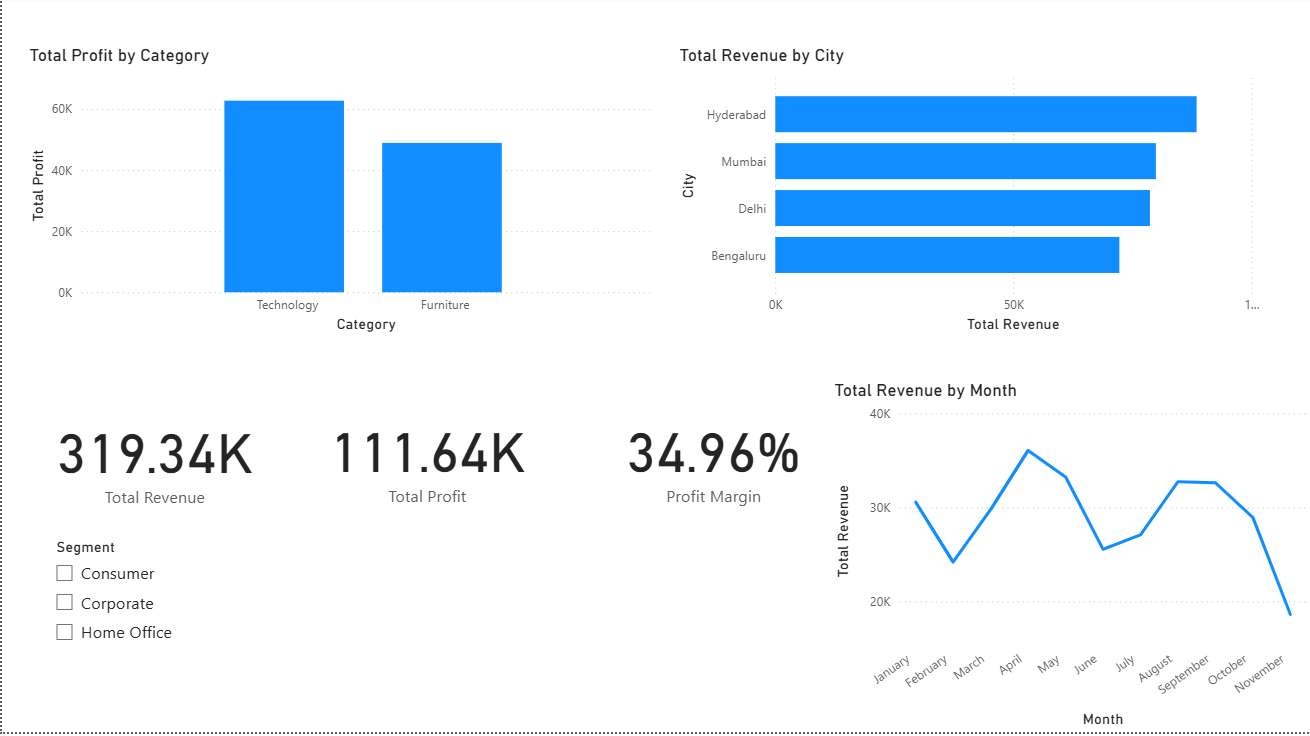

Layout of this report page (visuals, bound fields, positions):
{"tool":"powerbi","page":{"name":"Page 1","canvas":[1280,720],"ordinal":0},"visuals":[{"type":"clusteredColumnChart","fields":{"Category":["Products.Category"],"Y":["Orders.Total Profit"]},"box":[22,47.7,617.5,286.1],"z":0},{"type":"card","fields":{"Values":["Orders.Total Revenue"]},"box":[40.4,354.6,218.9,194.4],"z":1},{"type":"card","fields":{"Values":["Orders.Total Profit"]},"box":[276.4,375.4,280,150.4],"z":2},{"type":"card","fields":{"Values":["Orders.Profit Margin"]},"box":[556.4,375.4,280,150.4],"z":3},{"type":"clusteredBarChart","fields":{"Category":["Regions.City"],"Y":["Orders.Total Revenue"]},"box":[657.9,47.7,579.6,286.1],"z":4},{"type":"lineChart","fields":{"Category":["Orders.OrderDate.Variation.Date Hierarchy.Month"],"Y":["Orders.Total Revenue"]},"box":[809.5,375.4,470.8,344.8],"z":5},{"type":"slicer","fields":{"Values":["Customers.Segment"]},"box":[40.4,525.8,262.9,171.2],"z":6}]}

Visuals, with their boxes in screenshot pixels (x1, y1, x2, y2), scaled from the page's 1280x720 canvas onto the 1310x736 screenshot:
clusteredColumnChart - Products.Category x Orders.Total Profit: rect(23, 49, 654, 341)
card - Orders.Total Revenue: rect(41, 362, 265, 561)
card - Orders.Total Profit: rect(283, 384, 569, 537)
card - Orders.Profit Margin: rect(569, 384, 856, 537)
clusteredBarChart - Regions.City x Orders.Total Revenue: rect(673, 49, 1267, 341)
lineChart - Orders.OrderDate.Variation.Date Hierarchy.Month x Orders.Total Revenue: rect(828, 384, 1309, 735)
slicer - Customers.Segment: rect(41, 537, 310, 712)
